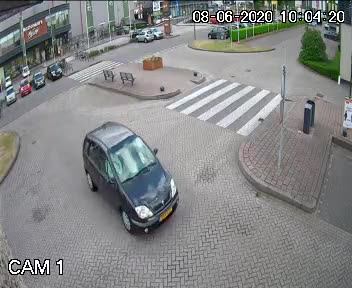car: (68, 112, 184, 246)
